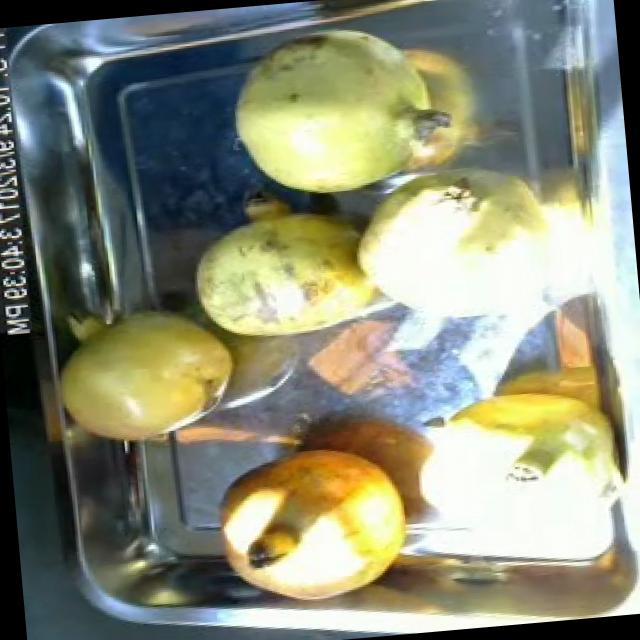fruit: (210, 8, 458, 218), (326, 143, 570, 348), (204, 428, 432, 614), (406, 349, 640, 528), (176, 190, 392, 356), (45, 290, 254, 460)
